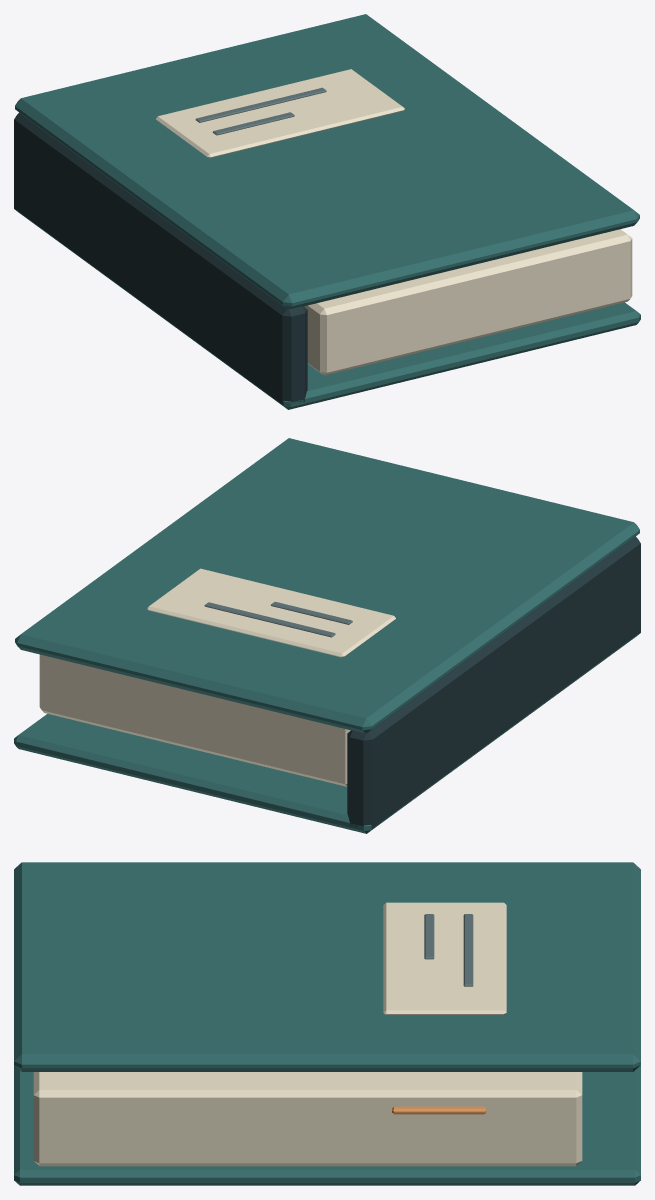
File: binder.glb
3 views of the same model, one above another, from view 1: azimuth 30°, elevation 25°; view 2: azimuth 150°, elevation 25°; view 3: azimuth 270°, elevation 25° (orthographic). The views are drawn at different scales.
Visible parts, largest first — view 1: Cover, Spine, Pages, Ticket, Back, Title0; view 2: Cover, Spine, Pages, Back, Ticket, Title0; view 3: Cover, Pages, Back, Ticket, Index, Title0, Title1.
Boxes of the visible parts, x1,y1,x2,y2 form: Cover: (15, 14, 639, 309); Spine: (14, 112, 307, 404); Pages: (304, 229, 632, 375); Ticket: (156, 69, 404, 158); Back: (14, 208, 640, 409); Title0: (195, 87, 326, 122); Cover: (15, 438, 639, 733); Spine: (347, 536, 640, 828); Pages: (39, 654, 350, 786); Back: (14, 632, 640, 833); Ticket: (147, 568, 395, 657); Title0: (204, 602, 335, 637); Cover: (14, 862, 640, 1071); Pages: (33, 1072, 582, 1166); Back: (14, 1065, 640, 1185); Ticket: (383, 902, 506, 1014); Index: (392, 1106, 486, 1114); Title0: (463, 914, 473, 986); Title1: (424, 914, 434, 959).
Bounding box in the file's own units: 0.2445 × 0.0773 × 0.32.
